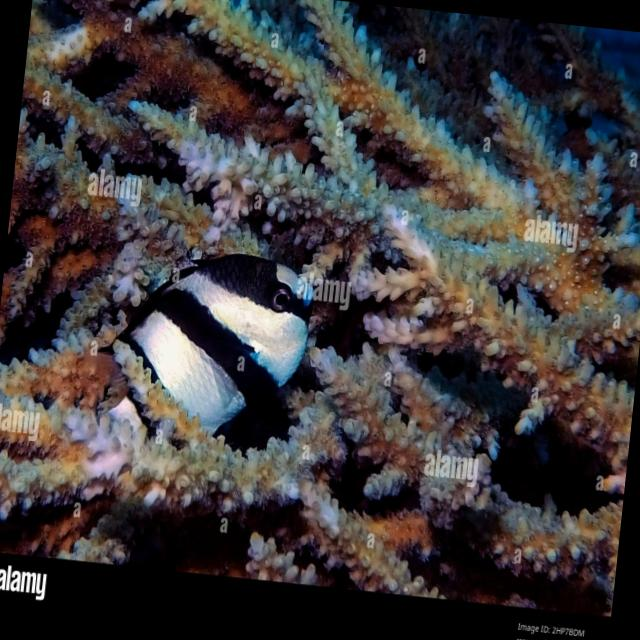Three_striped DasmselFish: (81, 241, 318, 466)
